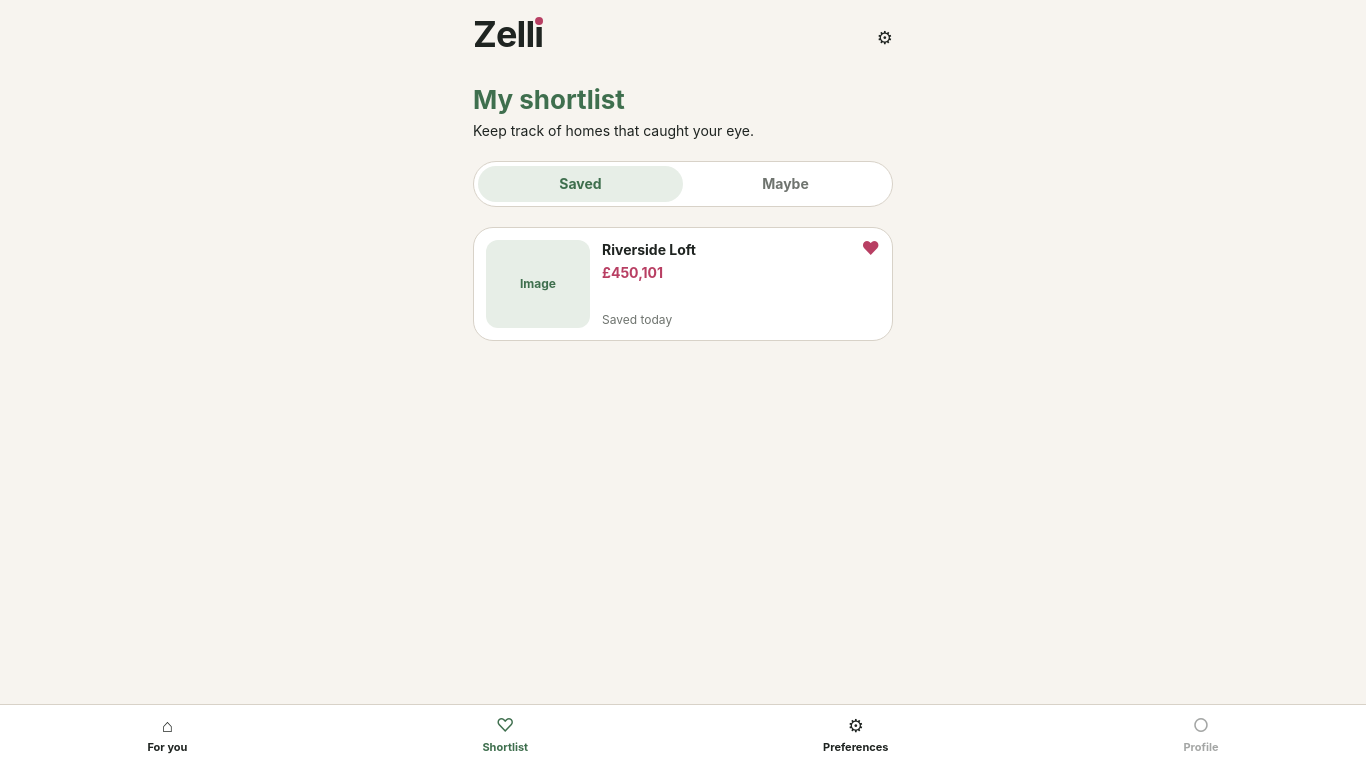
Test: ShortlistFlow › switches to the Maybe tab and loads action=2 interactions
The width and height of the screenshot is (1366, 768).
Check: the text "Riverside Loft" is shown, box [602,240,696,259]
Click the tab "maybe". click: (786, 184)
box: [683,166,888,202]
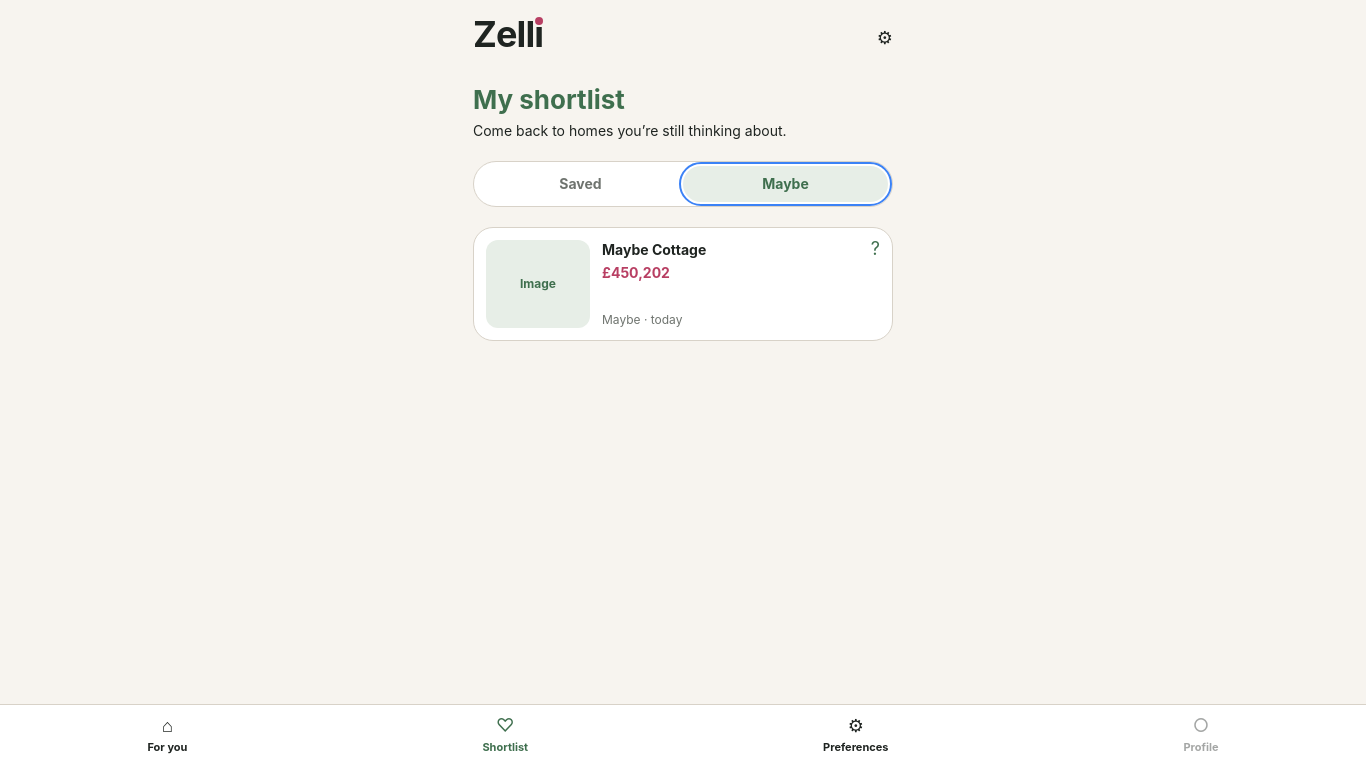
Check: the text "Maybe Cottage" is shown, box [602,240,706,259]
Check: the text "Maybe · today" is shown, box [602,312,682,326]
